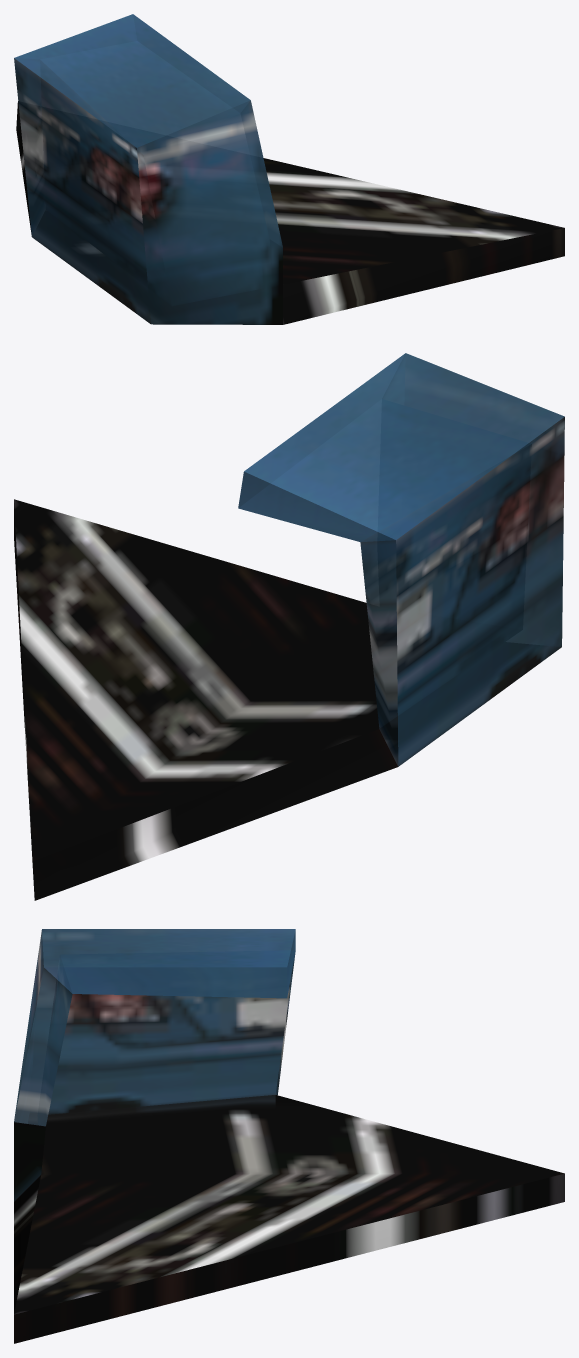
Rendered from Shared - Ground Vehicles - Police Car - CVPoliceCar_x16.glb.
3 renders of one model, top to bottom at view 1: azimuth 30°, elevation 25°; view 2: azimuth 150°, elevation 25°; view 3: azimuth 270°, elevation 25°, orthographic. The views are drawn at different scales.
Parts seen in each view (by area): view 1: CVPOLICECAR_X16; view 2: CVPOLICECAR_X16; view 3: CVPOLICECAR_X16.
Boxes of the visible parts, left/top/right/bottom form: CVPOLICECAR_X16: left=14, top=14, right=564, bottom=324; CVPOLICECAR_X16: left=14, top=353, right=564, bottom=900; CVPOLICECAR_X16: left=14, top=929, right=564, bottom=1343.
Size of the model in its own units: 7.42 by 3.74 by 8.27.
1 material, 1 textured.
